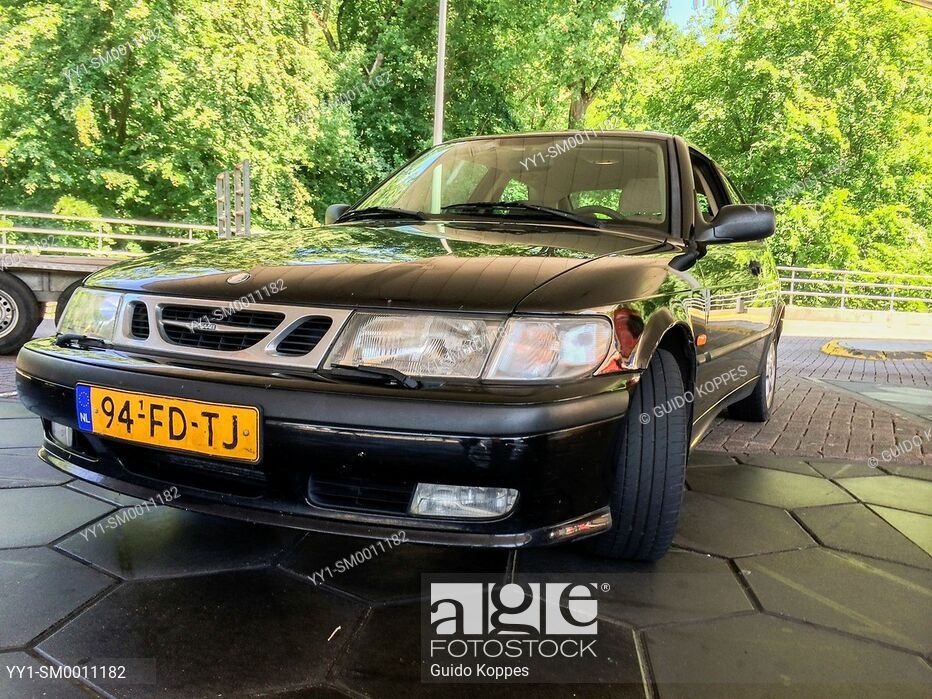num_plate: (73, 381, 260, 462)
